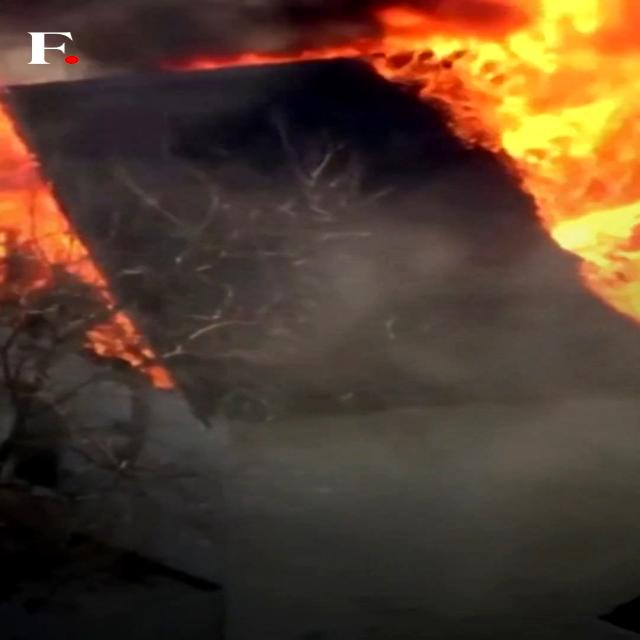helmet: (359, 2, 640, 321), (0, 96, 174, 391)
no_helmet: (223, 411, 639, 640)
